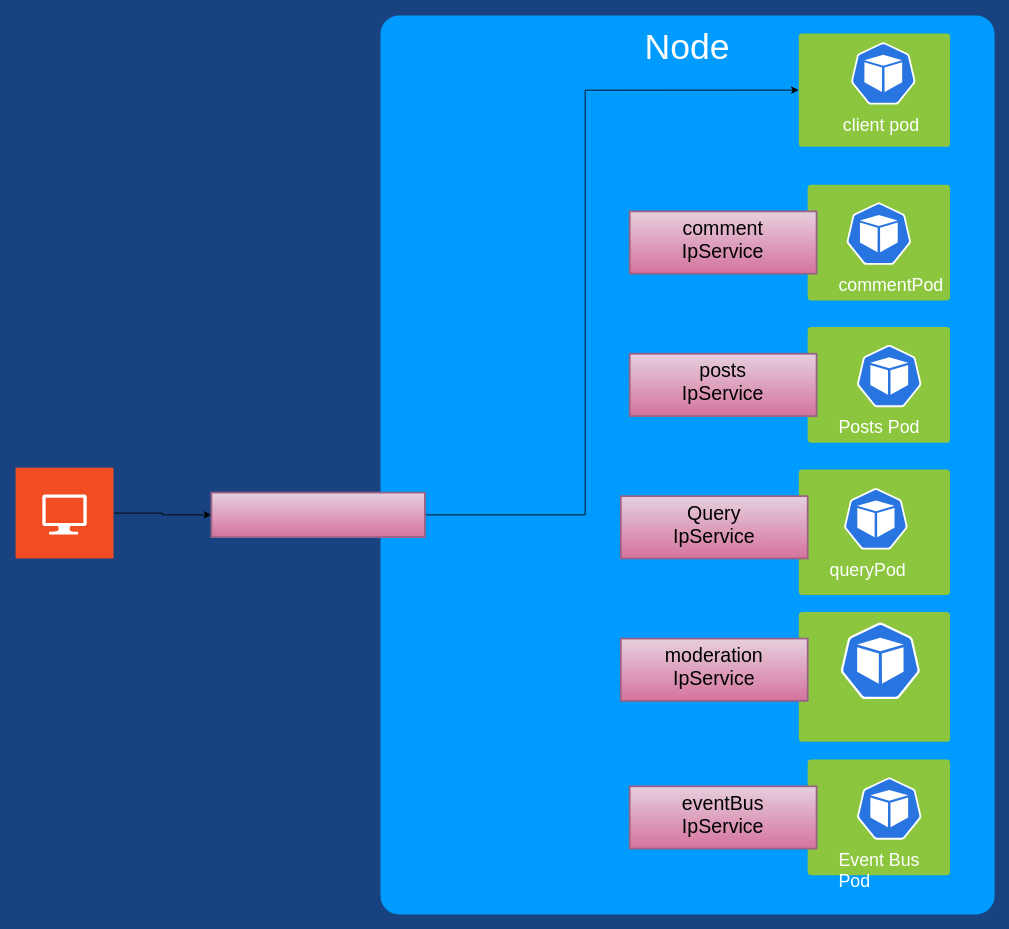
This 1009x929 diagram has some shape labels left out. Here are the shapes that lost their labels. From the top down, the centre of each, then its label:
point 64,514: Navigateur
point 317,514: client nodePort
point 880,660: moderation Pod
